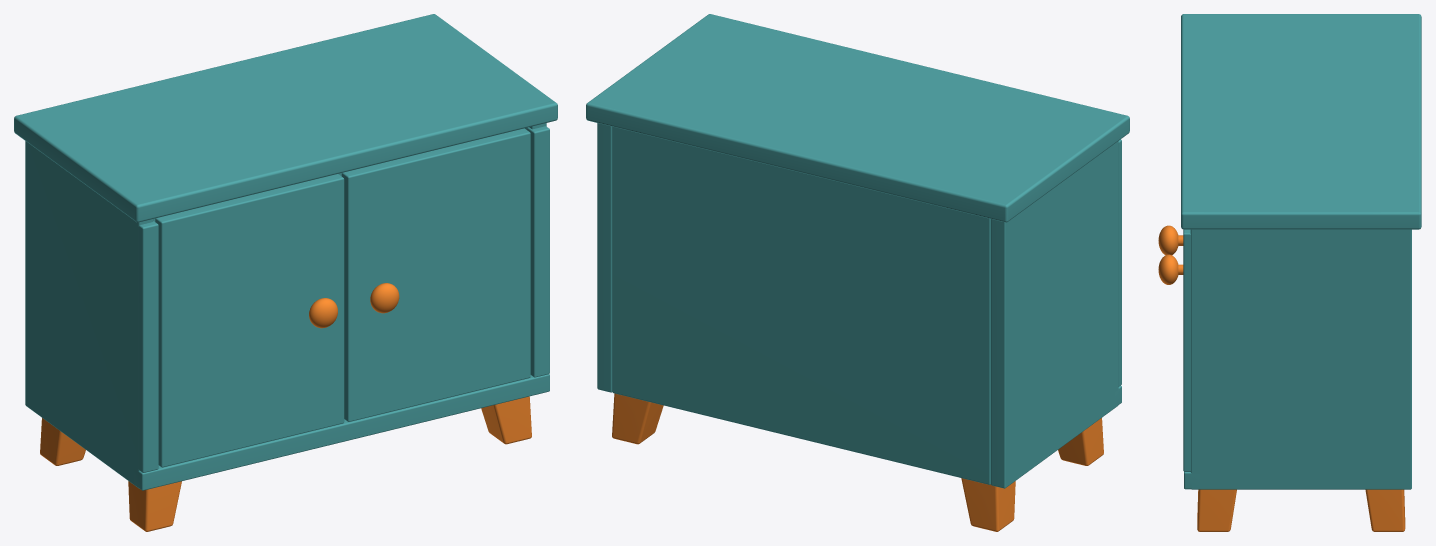
The picture shows the model from 3 angles, left to right: view 1: azimuth 30°, elevation 25°; view 2: azimuth 150°, elevation 25°; view 3: azimuth 270°, elevation 25°; orthographic projection. The views are drawn at different scales.
Parts seen in each view (by area): view 1: Overhanging solid top, Right door, Left door, Left side panel, Front lower rail, Left front stile, Right front stile, Front left orange foot, Front right orange foot, Rear left orange foot, Round orange door knob.001, Round orange door knob; view 2: Full back panel, Overhanging solid top, Left side panel, Right side panel, Rear left orange foot, Rear right orange foot, Front left orange foot, Left front stile; view 3: Right side panel, Overhanging solid top, Right front stile, Rear right orange foot, Front right orange foot, Round orange door knob.001, Round orange door knob.
Part boxes in pixels (box(x1,y1,x2,y2)): Overhanging solid top: box(14, 14, 557, 222); Right door: box(341, 128, 530, 421); Left door: box(155, 174, 344, 467); Left side panel: box(25, 141, 153, 487); Front lower rail: box(134, 374, 549, 490); Left front stile: box(138, 221, 158, 472); Right front stile: box(526, 126, 549, 377); Front left orange foot: box(128, 481, 181, 531); Front right orange foot: box(481, 396, 531, 444); Rear left orange foot: box(40, 418, 85, 465); Round orange door knob.001: box(370, 283, 399, 313); Round orange door knob: box(309, 298, 337, 328); Full back panel: box(612, 126, 990, 484); Overhanging solid top: box(586, 14, 1129, 222); Left side panel: box(990, 141, 1118, 488); Right side panel: box(597, 123, 612, 392); Rear left orange foot: box(961, 478, 1015, 531); Rear right orange foot: box(612, 393, 663, 444); Front left orange foot: box(1058, 418, 1103, 465); Left front stile: box(1118, 139, 1121, 386); Right side panel: box(1190, 229, 1411, 489); Overhanging solid top: box(1181, 14, 1421, 229); Right front stile: box(1183, 229, 1190, 471); Rear right orange foot: box(1365, 489, 1405, 531); Front right orange foot: box(1197, 489, 1236, 531); Round orange door knob.001: box(1158, 254, 1178, 284); Round orange door knob: box(1158, 225, 1178, 255).
Bounding box in the file's own units: 1.24 × 0.948 × 0.689.
